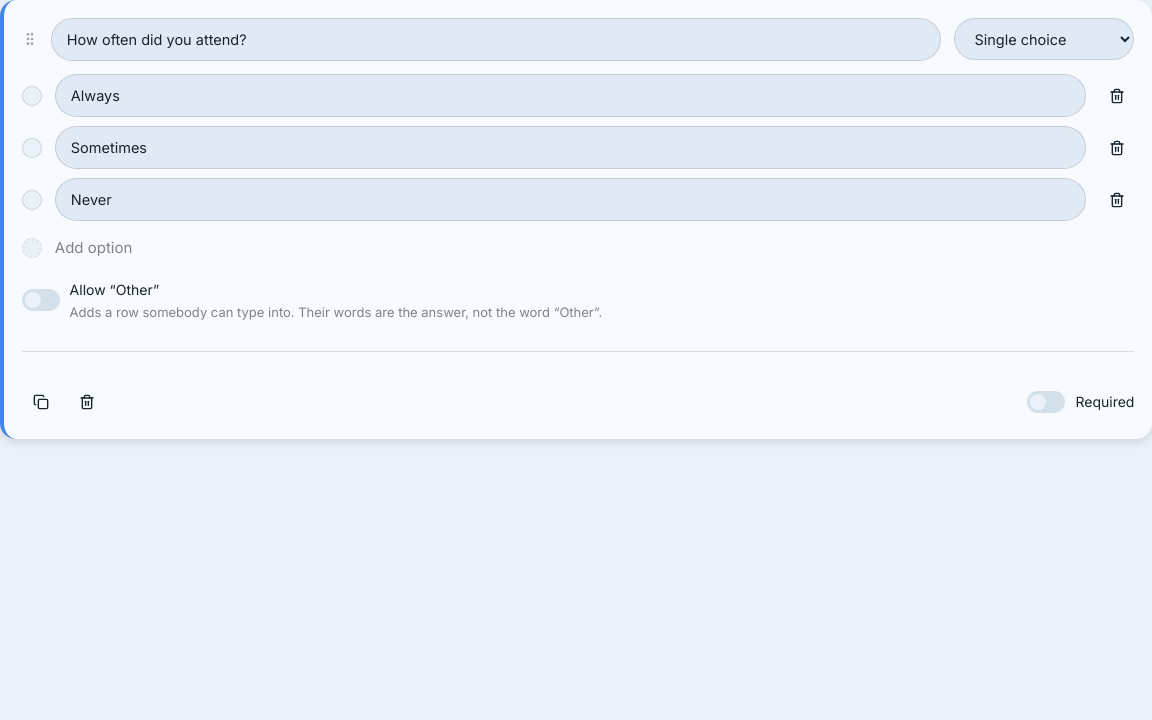
Test case: changing type warns BEFORE it costs anything › applies it once when accepted, keeping the text
The width and height of the screenshot is (1152, 720).
Select "Free text" in the dropdown named "Type of question" at (1044, 39), box [954, 18, 1134, 60]
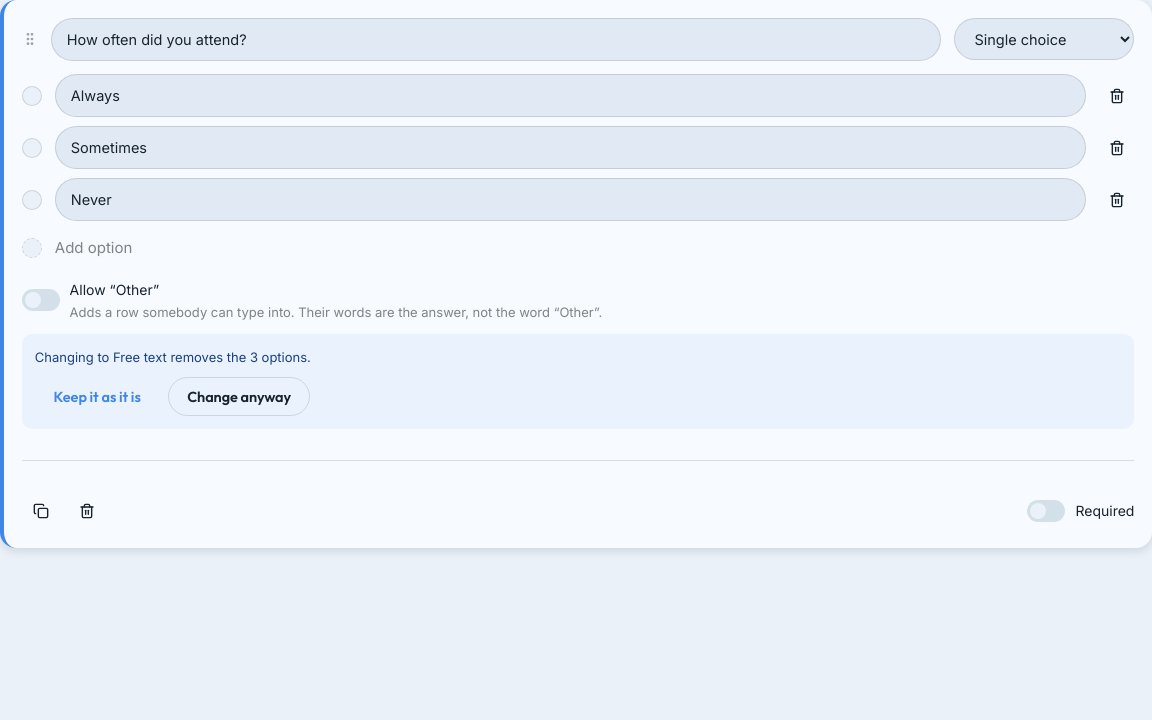
Click the button "Change anyway" at (239, 396), box [168, 377, 310, 416]
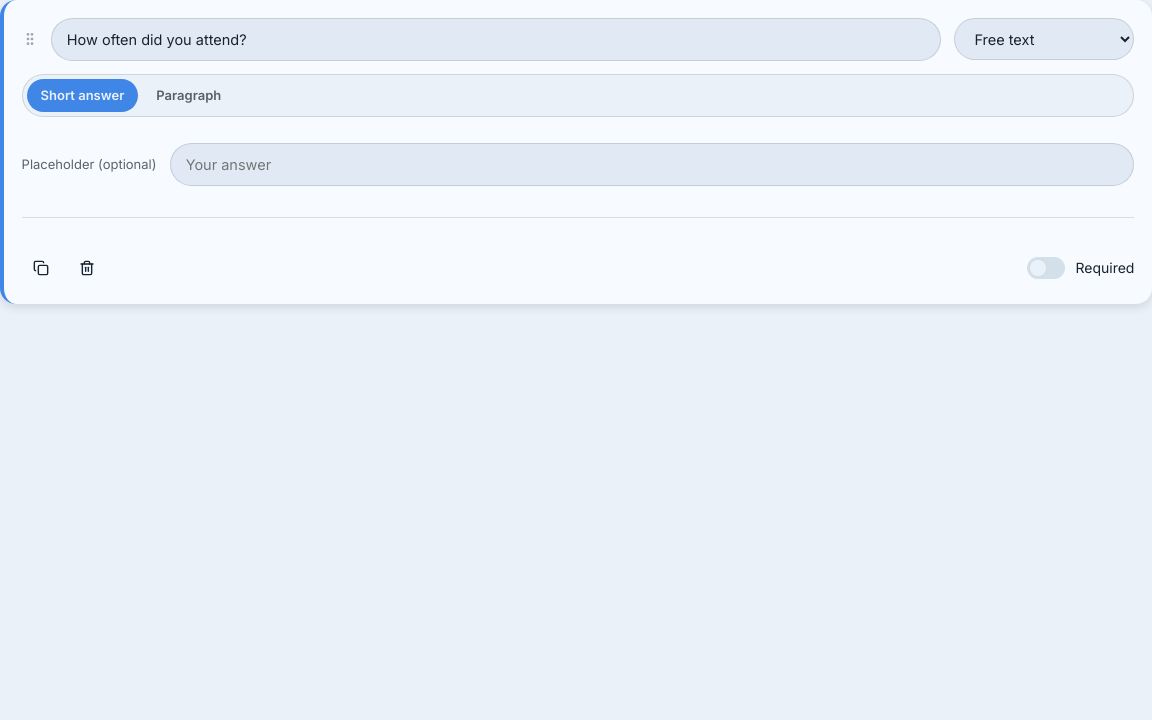
expect the message "Changing to Free text removes the 3 options. Keep it as it is Change anyway" is gone: met
